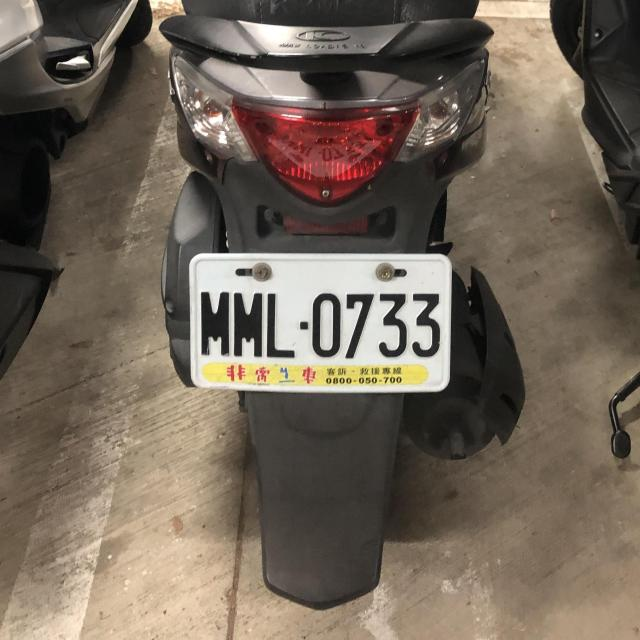W: (185, 247, 452, 397)
